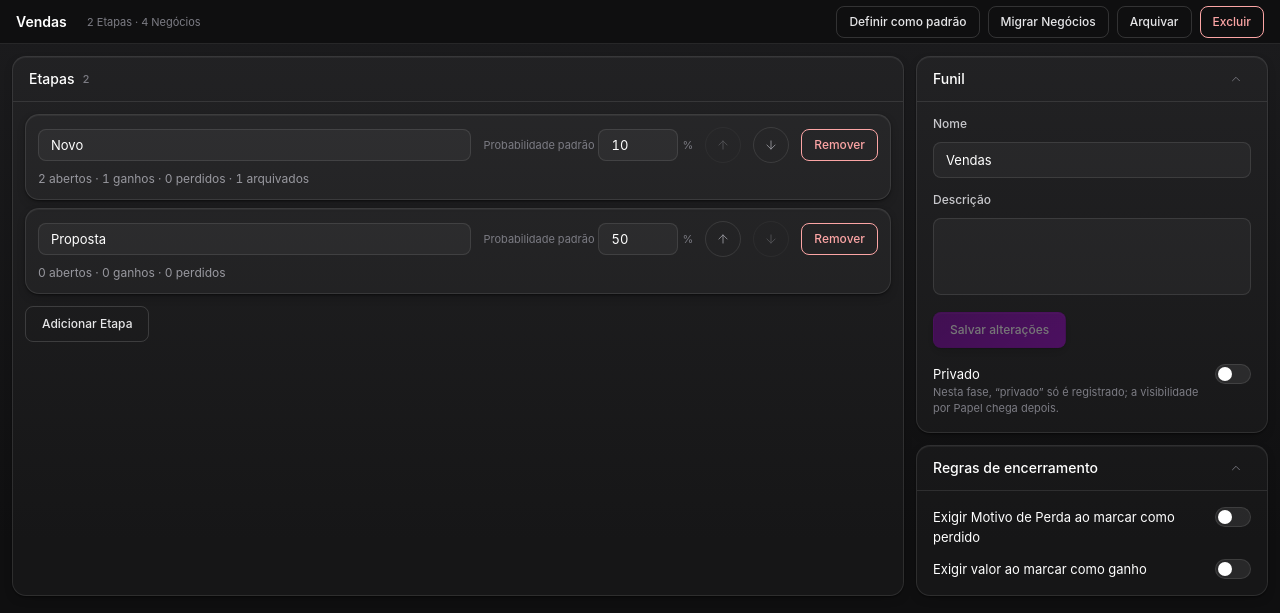
Test: FichaDeFunil — Etapas › (h) nome de Etapa repetido é recusado no domínio, sem ir ao servidor
The image size is (1280, 613).
Replace the text in the 1st field named "Nome da Etapa Novo" with " proposta " at (255, 145), box [38,129,472,161]
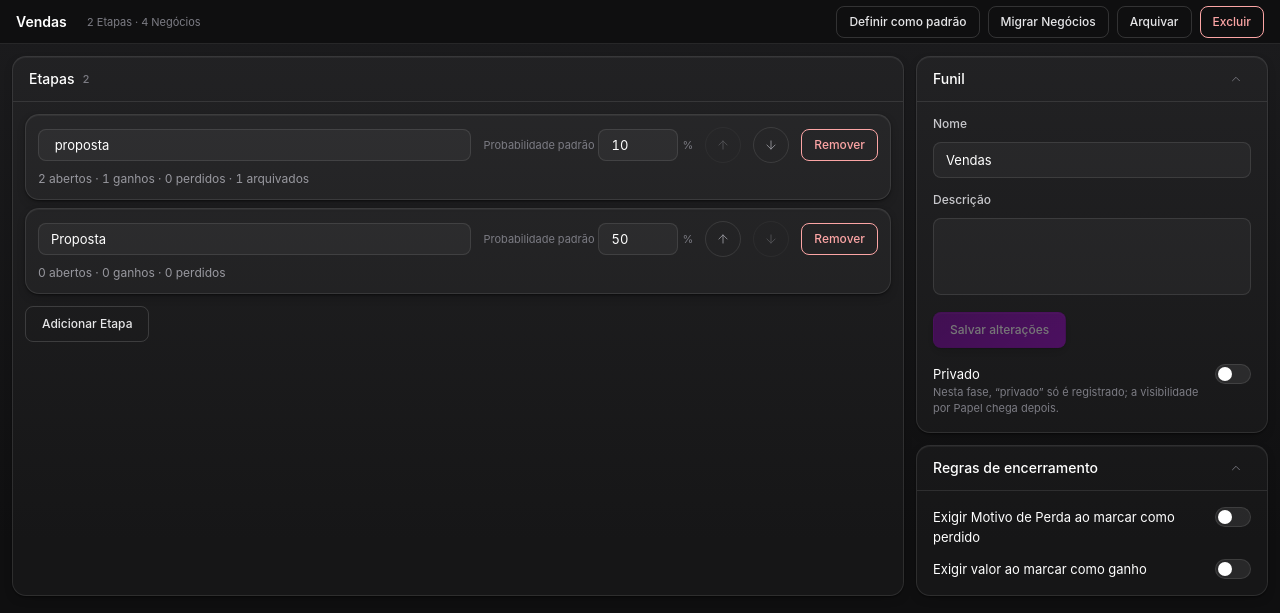
Leave the 1st field named "Nome da Etapa Novo", box [38,129,472,161]
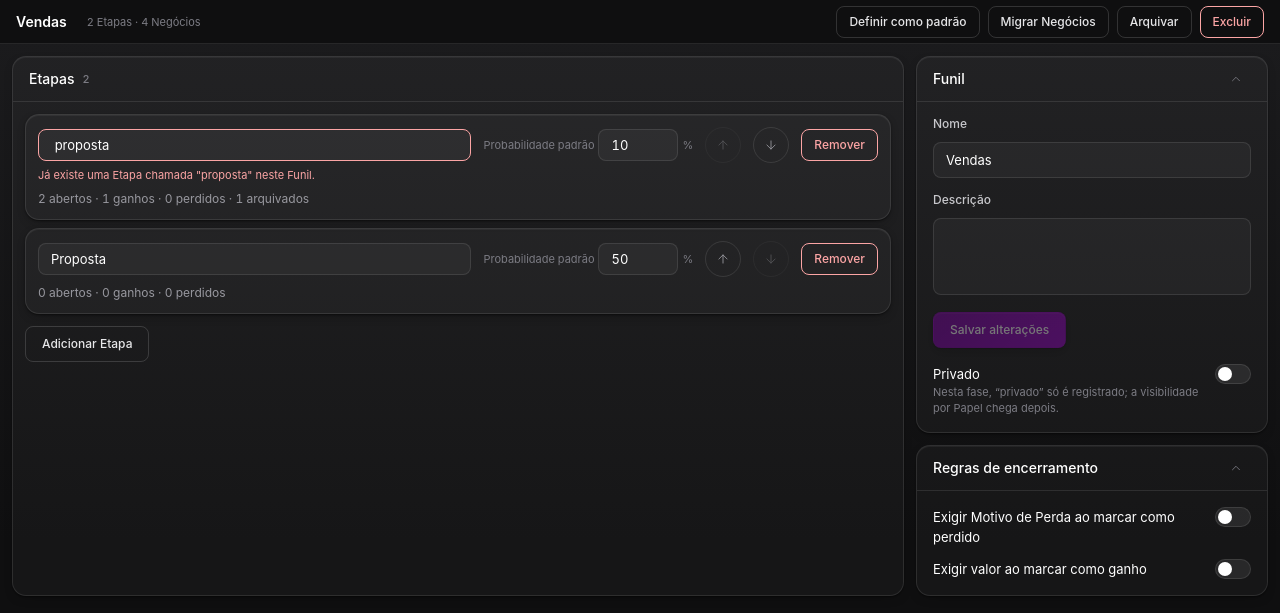
Now the text "Já existe uma Etapa chamada \"proposta\" neste Funil." is shown, box [38,168,315,182]
